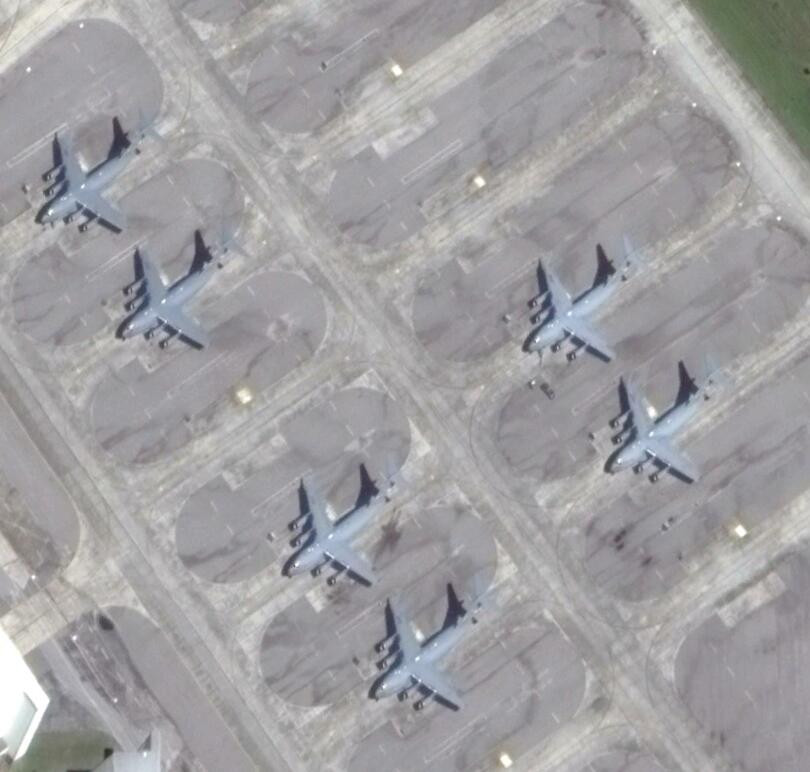A3: (113, 227, 251, 353), (372, 575, 498, 710), (284, 461, 414, 588), (600, 361, 732, 486), (32, 117, 169, 233), (525, 240, 648, 363)
